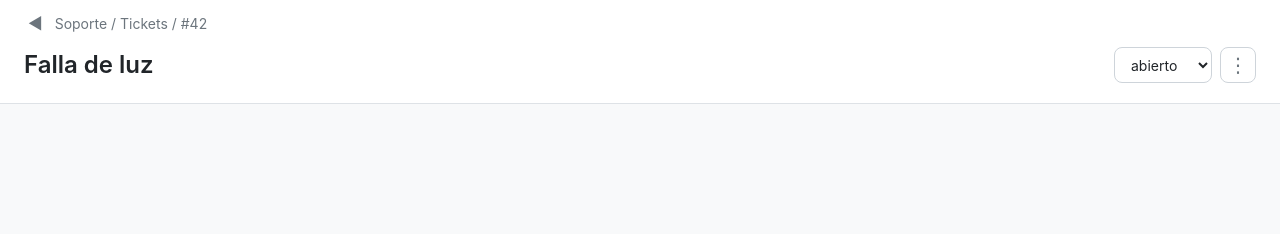
Test: TicketHeader › kebab menu opens when clicked
Click the button named "acciones".
click(1238, 65)  # box top-left (1220, 47), bottom-right (1256, 83)
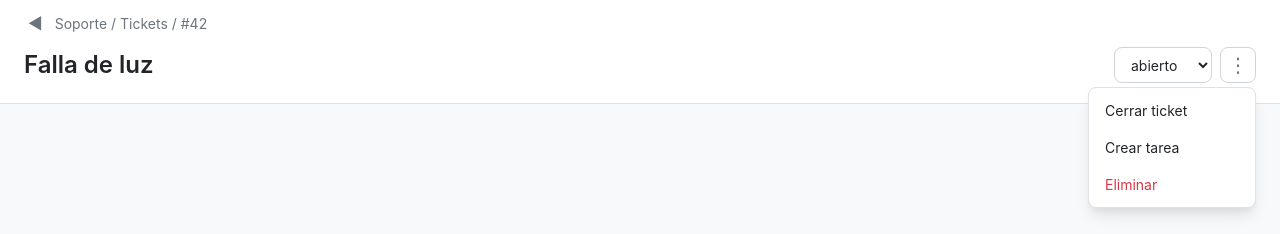
Expected: the menu is shown, top-left (1088, 87), bottom-right (1256, 208)
